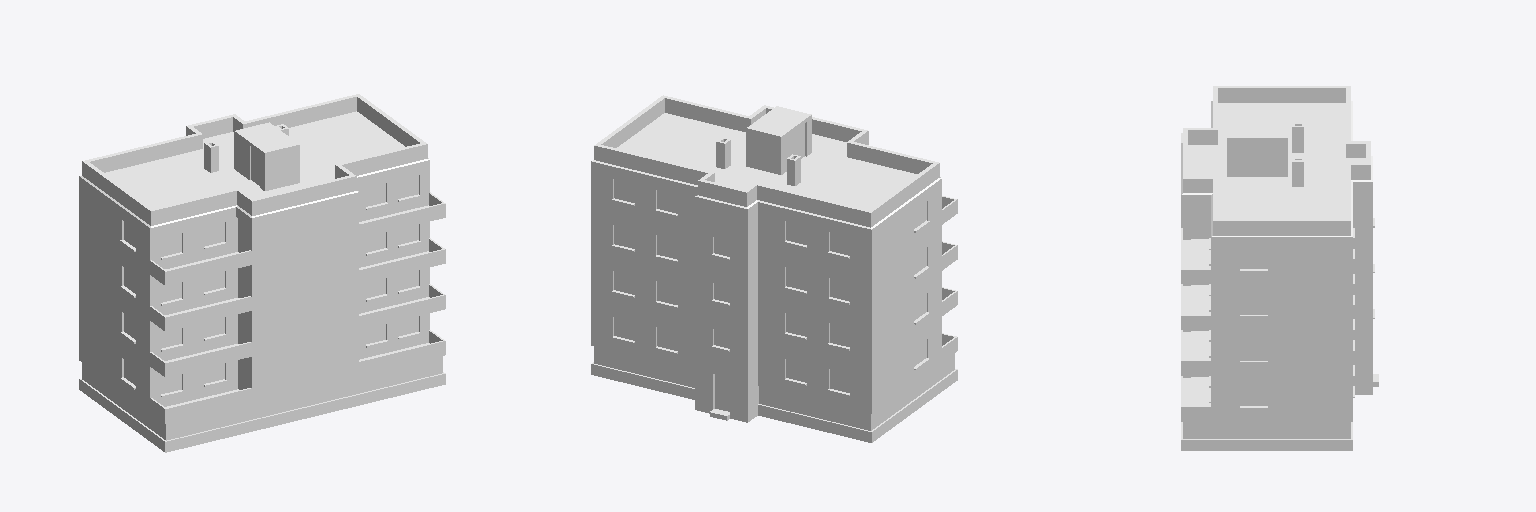
The model's file is apartmentB.obj.
3 renders of one model, left to right at view 1: azimuth 30°, elevation 25°; view 2: azimuth 150°, elevation 25°; view 3: azimuth 270°, elevation 25°, orthographic.
Parts seen in each view (by area): view 1: Default; view 2: Default; view 3: Default.
Boxes of the visible parts, x1=… form: Default: x1=79, y1=94, x2=445, y2=452; Default: x1=591, y1=95, x2=957, y2=442; Default: x1=1181, y1=86, x2=1378, y2=450.
Bounding box in the file's own units: 16.2 × 13.8 × 9.8.